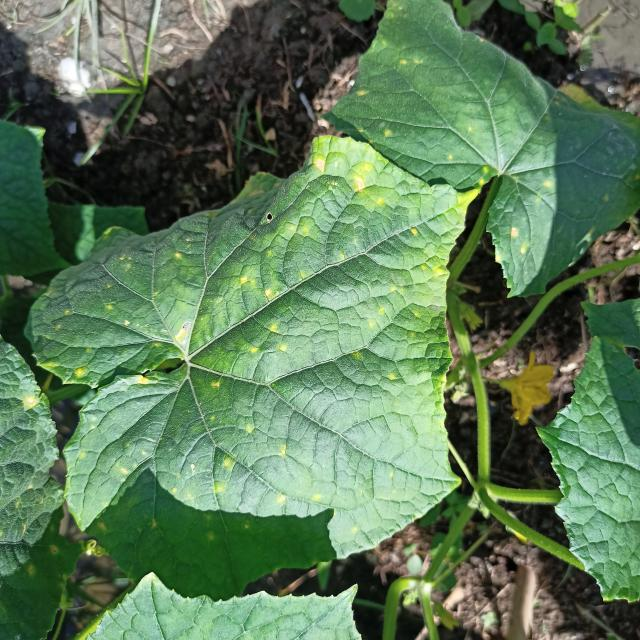disease_cucumber: (256, 151, 434, 329), (172, 430, 293, 551)
